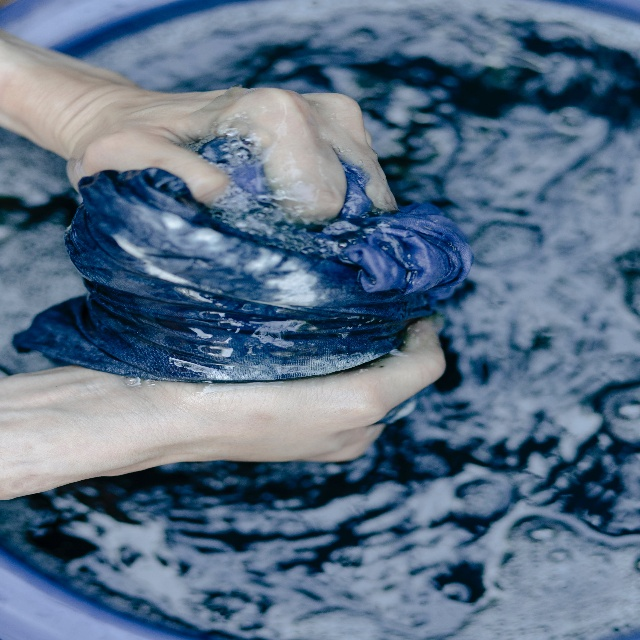Sin_guantes: (0, 296, 446, 498), (65, 66, 394, 228)
